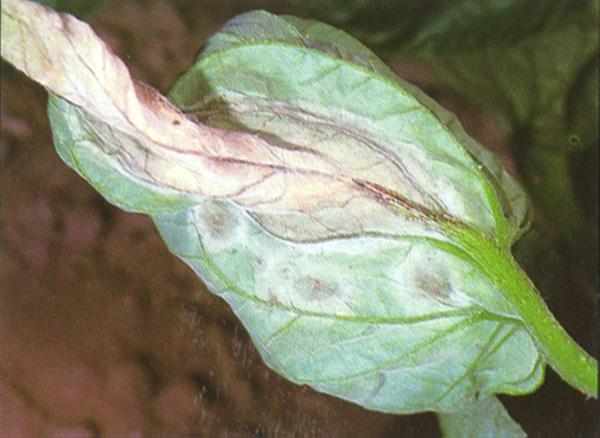Tomato leaf late blight: (9, 16, 553, 413)
